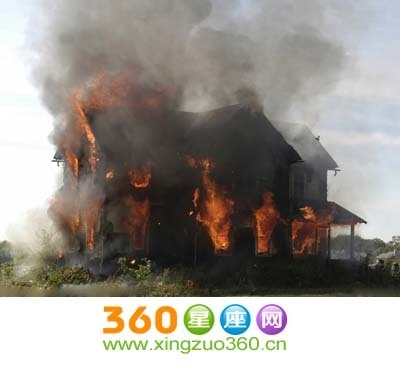fire: (184, 155, 334, 257), (64, 78, 104, 181)
